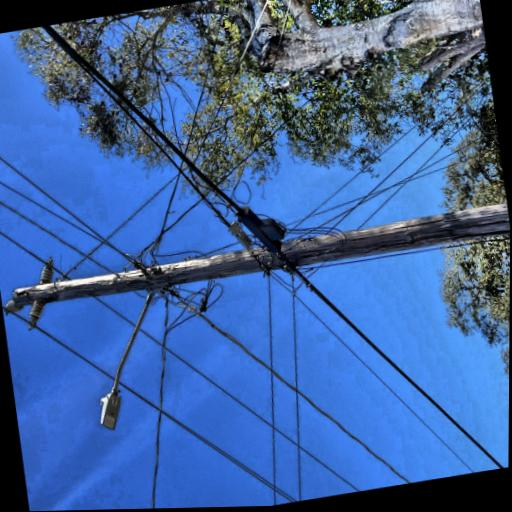pole: (60, 136, 180, 511)
street light: (0, 223, 122, 341)
